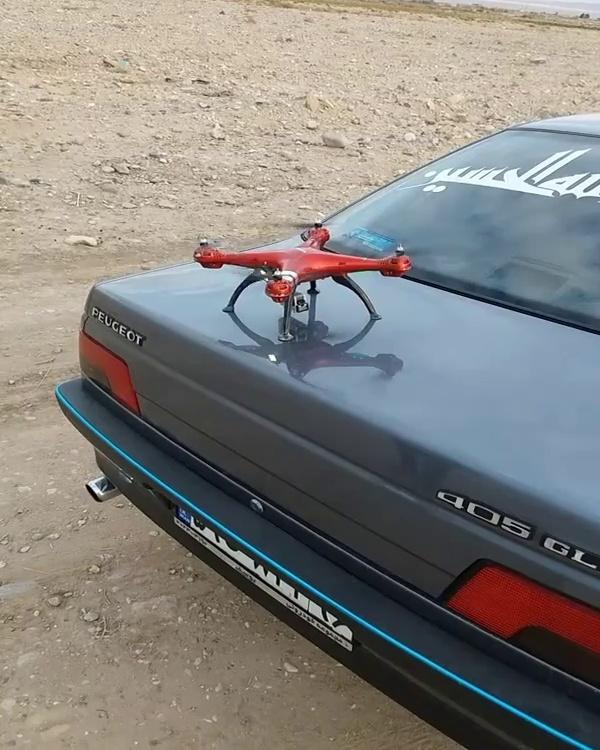drone: (186, 213, 431, 346)
